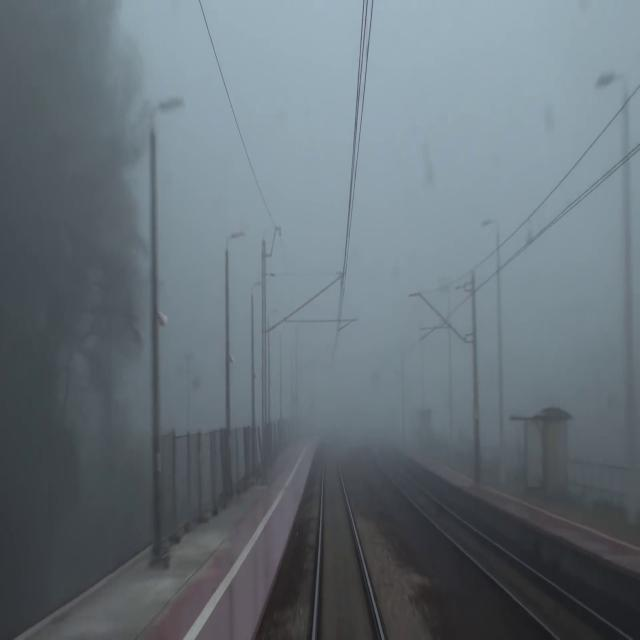rail-track: (389, 466, 620, 639), (318, 453, 379, 639)
